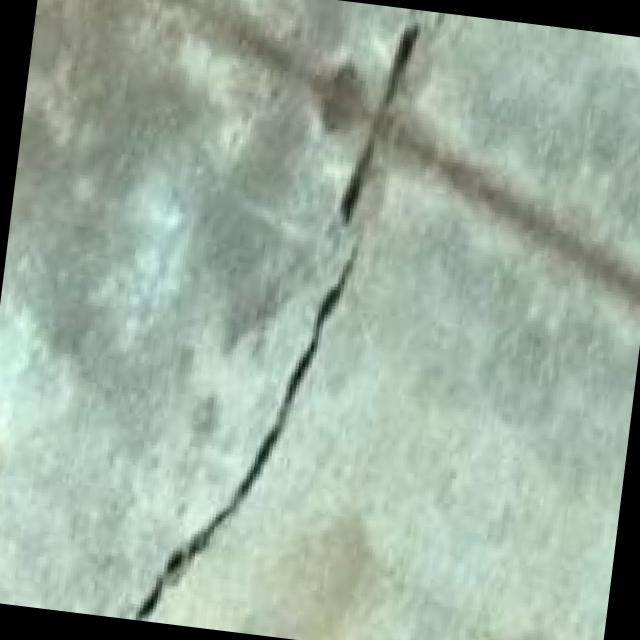crack: (116, 1, 471, 640)
